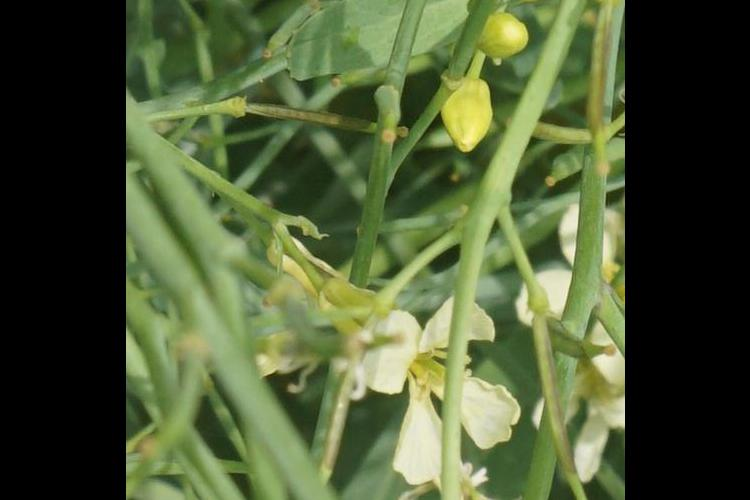bud: (432, 81, 506, 160), (473, 17, 533, 64)
pod: (525, 320, 602, 500), (222, 114, 403, 152), (534, 128, 610, 206), (549, 310, 621, 366)
white: (366, 309, 511, 478)
